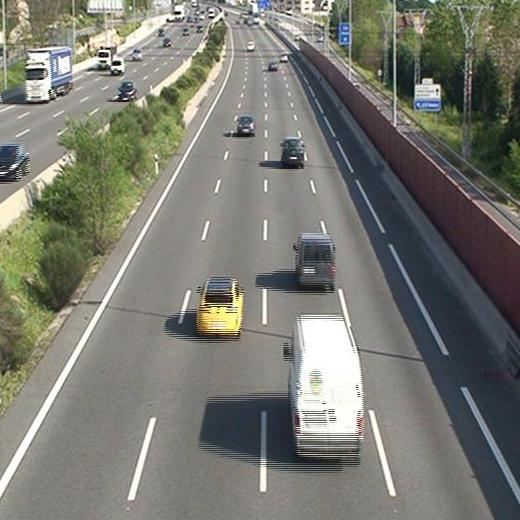car: (197, 281, 242, 334), (282, 139, 303, 163), (237, 116, 254, 133), (269, 61, 278, 69), (278, 53, 286, 61)
van: (289, 316, 363, 455), (296, 235, 336, 285)
